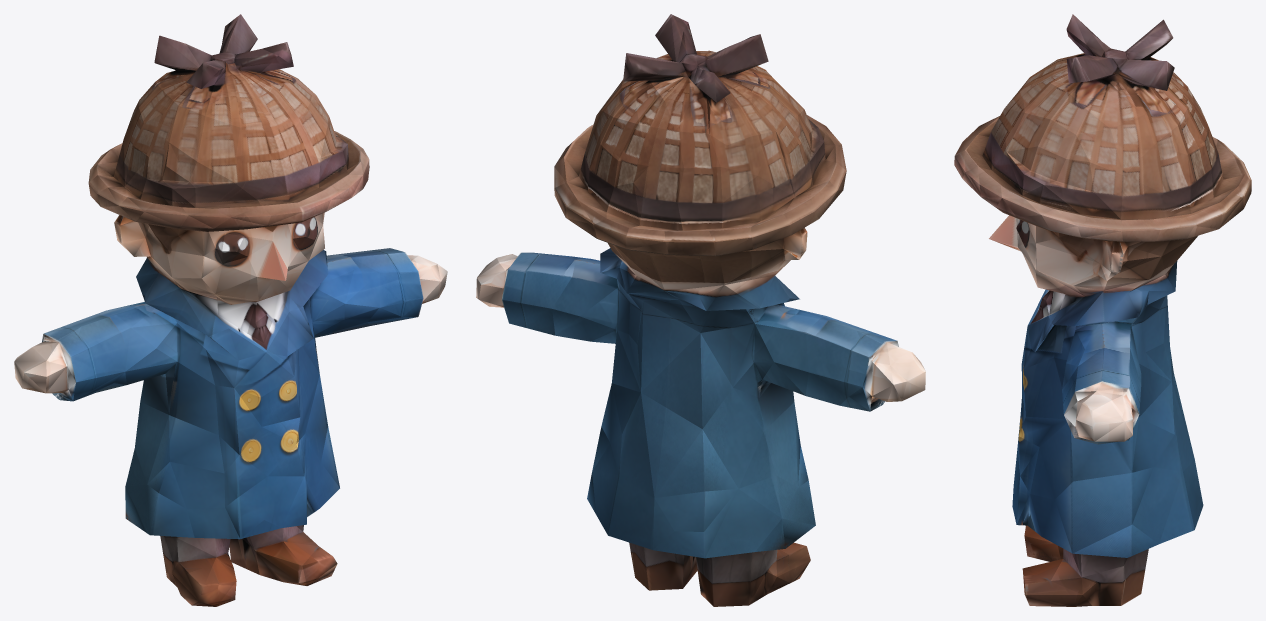
The model's file is Detective_QuadDominant_LowPoly.glb.
3 renders of one model, left to right at view 1: azimuth 30°, elevation 25°; view 2: azimuth 150°, elevation 25°; view 3: azimuth 270°, elevation 25°, orthographic. The views are drawn at different scales.
Visible parts, largest first — view 1: Detective_QuadDominant_LowPoly; view 2: Detective_QuadDominant_LowPoly; view 3: Detective_QuadDominant_LowPoly.
Part boxes in pixels (box(x1,y1,x2,y2)): Detective_QuadDominant_LowPoly: box(14, 14, 447, 606); Detective_QuadDominant_LowPoly: box(476, 14, 925, 606); Detective_QuadDominant_LowPoly: box(954, 14, 1251, 606).
Bounding box in the file's own units: 0.8242 × 0.9835 × 0.4882.
1 material, 1 textured.
